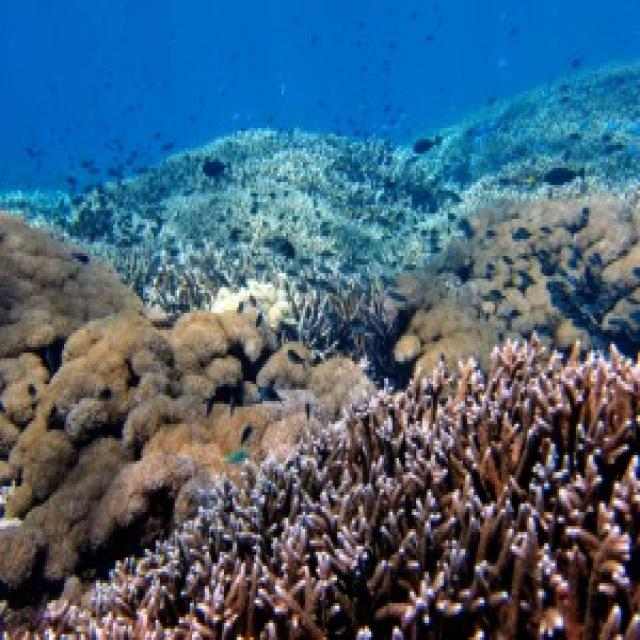Bleached: (212, 277, 344, 354), (396, 300, 530, 371)
Healthy: (12, 339, 639, 638), (67, 132, 460, 288), (1, 439, 195, 590), (421, 64, 639, 189), (458, 194, 637, 322), (1, 211, 123, 357), (44, 317, 178, 436), (238, 342, 374, 450), (110, 405, 234, 510), (10, 391, 76, 513), (167, 317, 263, 399), (1, 357, 48, 448)
